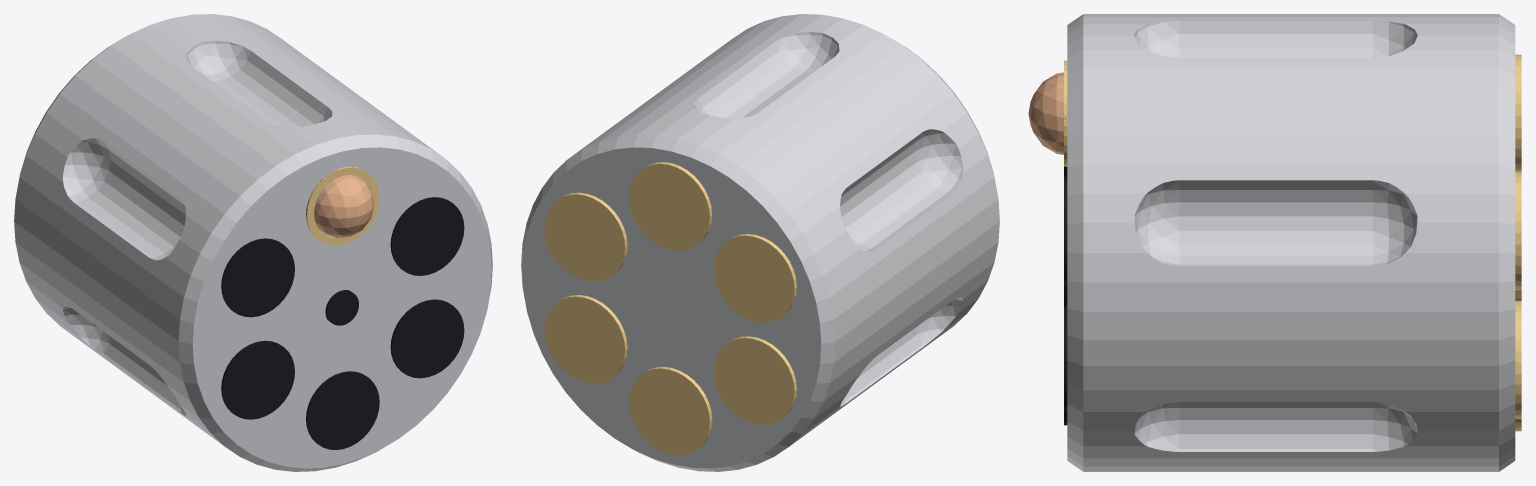
File: tb_rev3_cyl.glb
3 renders of one model, left to right at view 1: azimuth 30°, elevation 25°; view 2: azimuth 150°, elevation 25°; view 3: azimuth 270°, elevation 25°, orthographic. The views are drawn at different scales.
Parts seen in each view (by area): view 1: tb_rev3_cyl_nickel, tb_rev3_cyl_dark, tb_rev3_cyl_copper, tb_rev3_cyl_brass; view 2: tb_rev3_cyl_nickel, tb_rev3_cyl_brass; view 3: tb_rev3_cyl_nickel, tb_rev3_cyl_brass, tb_rev3_cyl_copper, tb_rev3_cyl_dark.
Part boxes in pixels (x1,y1,x2,y2): tb_rev3_cyl_nickel: [14, 14, 492, 471]; tb_rev3_cyl_dark: [221, 169, 464, 449]; tb_rev3_cyl_copper: [314, 175, 374, 237]; tb_rev3_cyl_brass: [306, 166, 379, 245]; tb_rev3_cyl_nickel: [521, 14, 999, 471]; tb_rev3_cyl_brass: [544, 162, 796, 455]; tb_rev3_cyl_nickel: [1067, 14, 1515, 471]; tb_rev3_cyl_brass: [1064, 54, 1521, 431]; tb_rev3_cyl_copper: [1028, 72, 1063, 154]; tb_rev3_cyl_dark: [1064, 105, 1067, 425].
Size of the model in its own units: 0.045 by 0.045 by 0.0484.
